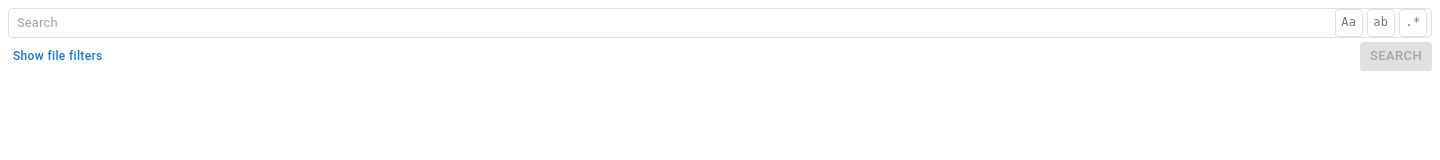
Test: search panel › explains a bad pattern
Type "(" into the field named "Search files" at (674, 23), box top-left (17, 9), bottom-right (1331, 37)
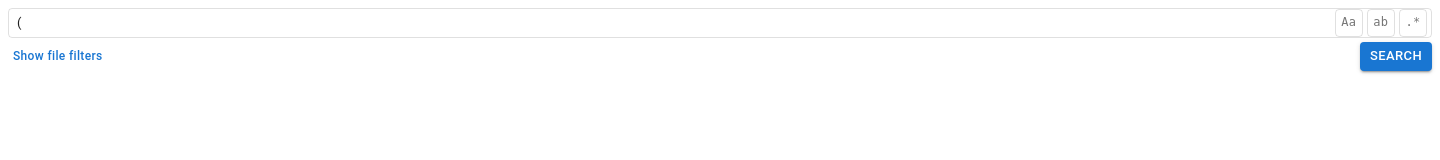
Click the button "Search" at (1396, 56), box top-left (1360, 42), bottom-right (1432, 71)
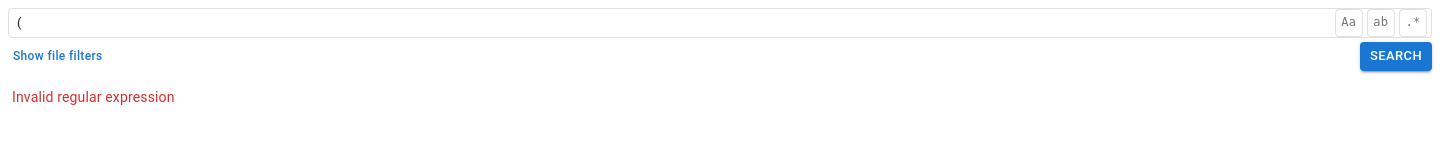
Check: the text "Invalid regular expression" is shown, box top-left (12, 89), bottom-right (175, 105)
